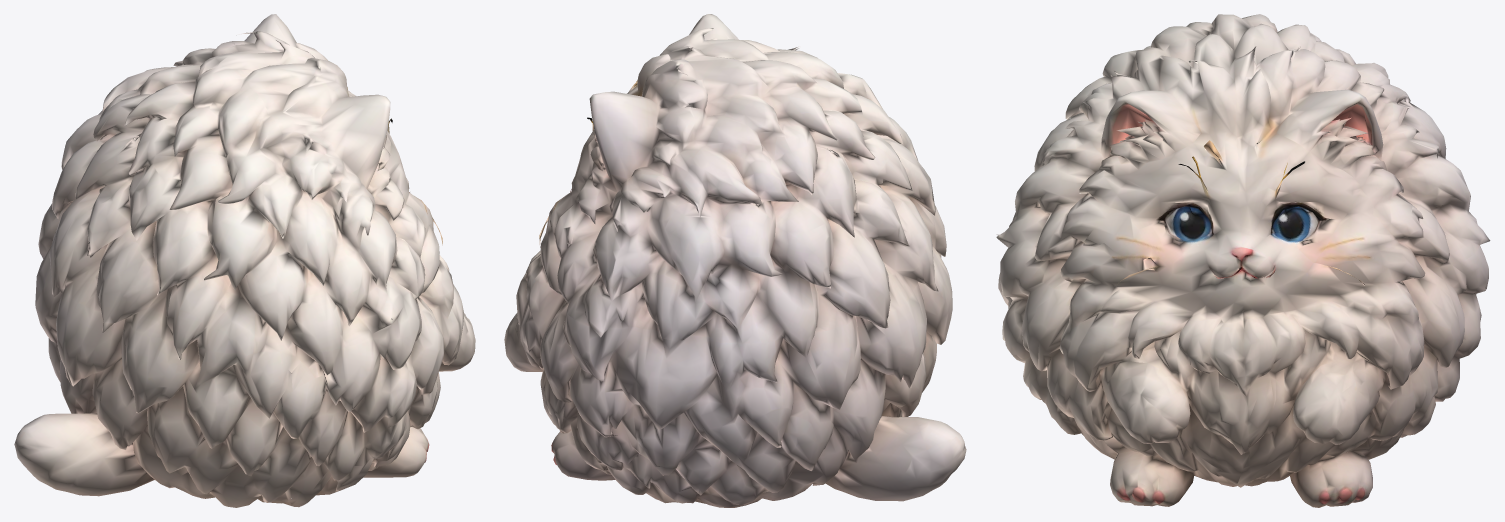
The model's file is CAT_L10.glb.
3 views of the same model, side by side, from view 1: azimuth 30°, elevation 25°; view 2: azimuth 150°, elevation 25°; view 3: azimuth 270°, elevation 25° (orthographic). The views are drawn at different scales.
Visible parts, largest first — view 1: tripo_node_2d4fa61e-bd0a-48d9-918f-908ace0a3f61; view 2: tripo_node_2d4fa61e-bd0a-48d9-918f-908ace0a3f61; view 3: tripo_node_2d4fa61e-bd0a-48d9-918f-908ace0a3f61.
Boxes of the visible parts, <box> form: tripo_node_2d4fa61e-bd0a-48d9-918f-908ace0a3f61: <box>14,14,475,507</box>; tripo_node_2d4fa61e-bd0a-48d9-918f-908ace0a3f61: <box>504,14,966,507</box>; tripo_node_2d4fa61e-bd0a-48d9-918f-908ace0a3f61: <box>996,14,1490,507</box>.
Size of the model in its own units: 0.97 by 0.9299 by 0.9784.
Materials: 1 (1 with a texture image).
